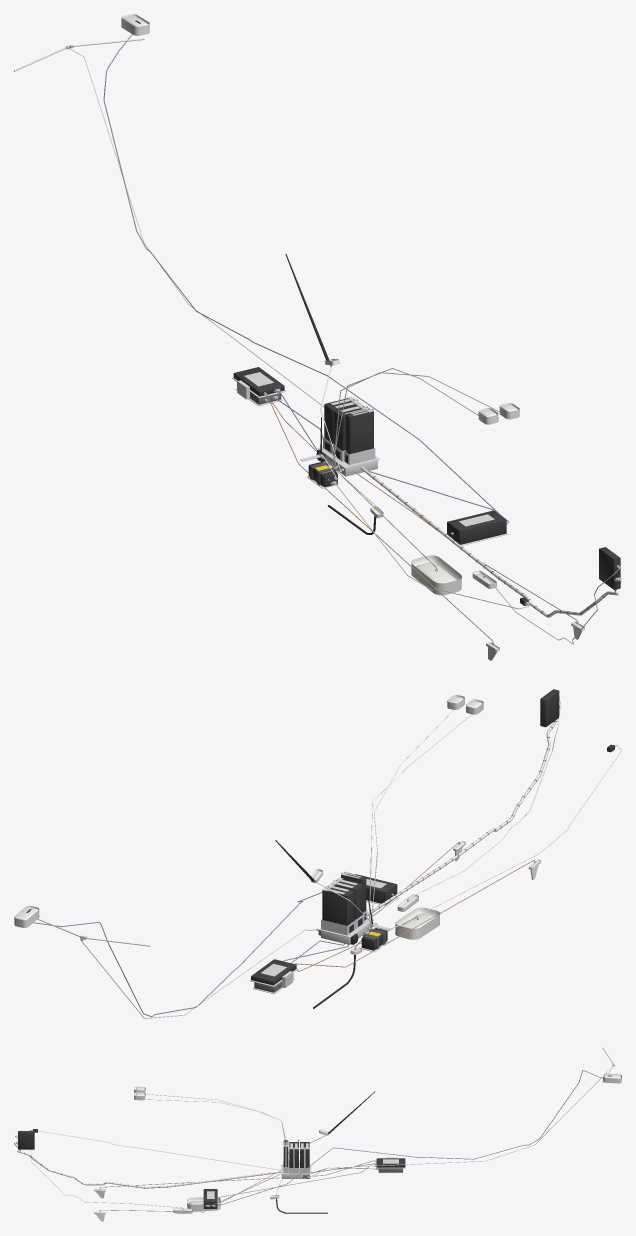
Rendered from da40-radio.glb.
3 views of the same model, one above another, from view 1: azimuth 30°, elevation 25°; view 2: azimuth 150°, elevation 25°; view 3: azimuth 270°, elevation 25° (orthographic). The views are drawn at different scales.
Visible parts, largest first — view 1: WX-500 stormscope processor, ADF antenna AN 3500, G1000 main harness (instrument panel → avionics rack), GTX 33 transponder, Stormscope antenna cable → WX-500, DME KN 63; view 2: GIA 63W No 1, ADF antenna AN 3500, G1000 main harness (instrument panel → avionics rack), DME KN 63, WX-500 stormscope processor, GMA 1347 audio panel housing, Stormscope antenna cable → WX-500, GIA 63W No 2, Avionics enclosure; view 3: G1000 main harness (instrument panel → avionics rack), Stormscope antenna cable → WX-500, Coax: NAV antenna → splitter, GMA 1347 audio panel housing, WX-500 stormscope processor, DME KN 63, ELT remote switch cable, ADF antenna AN 3500.
Boxes of the visible parts, x1=… form: WX-500 stormscope processor: x1=447, y1=510, x2=507, y2=544; ADF antenna AN 3500: x1=411, y1=555, x2=461, y2=595; G1000 main harness (instrument panel → avionics rack): x1=360, y1=466, x2=618, y2=617; GTX 33 transponder: x1=345, y1=409, x2=373, y2=454; Stormscope antenna cable → WX-500: x1=103, y1=34, x2=502, y2=516; DME KN 63: x1=233, y1=367, x2=284, y2=396; GIA 63W No 1: x1=322, y1=885, x2=354, y2=925; ADF antenna AN 3500: x1=395, y1=907, x2=440, y2=939; G1000 main harness (instrument panel → avionics rack): x1=367, y1=719, x2=557, y2=915; DME KN 63: x1=251, y1=959, x2=296, y2=985; WX-500 stormscope processor: x1=355, y1=874, x2=397, y2=904; GMA 1347 audio panel housing: x1=540, y1=689, x2=559, y2=727; Stormscope antenna cable → WX-500: x1=33, y1=892, x2=322, y2=1016; GIA 63W No 2: x1=334, y1=879, x2=363, y2=919; Avionics enclosure: x1=319, y1=918, x2=374, y2=944; G1000 main harness (instrument panel → avionics rack): x1=17, y1=1150, x2=280, y2=1188; Stormscope antenna cable → WX-500: x1=213, y1=1070, x2=602, y2=1207; Coax: NAV antenna → splitter: x1=307, y1=1065, x2=615, y2=1177; GMA 1347 audio panel housing: x1=16, y1=1131, x2=34, y2=1149; WX-500 stormscope processor: x1=203, y1=1189, x2=217, y2=1209; DME KN 63: x1=374, y1=1158, x2=405, y2=1167; ELT remote switch cable: x1=29, y1=1129, x2=280, y2=1170; ADF antenna AN 3500: x1=187, y1=1197, x2=220, y2=1211.
Size of the model in its own units: 1.06 by 1.74 by 6.17.
